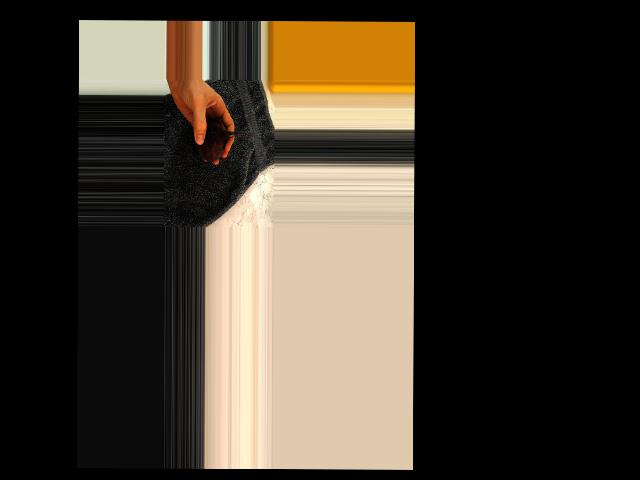beet: (191, 121, 252, 162)
